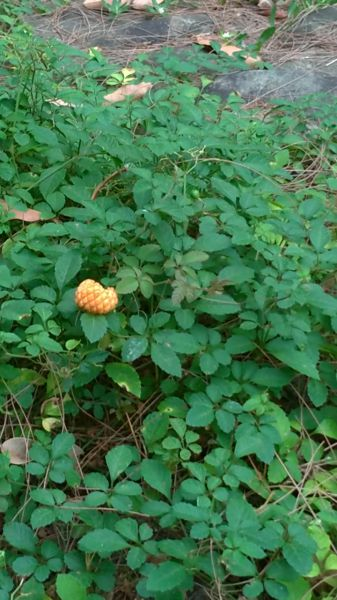eggs: (75, 275, 123, 316)
